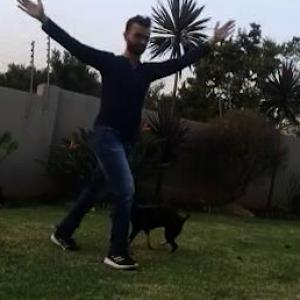takeoff: (25, 0, 197, 239)
